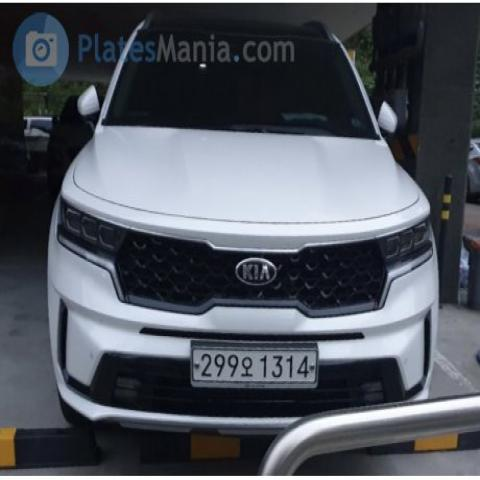LP: (182, 327, 328, 395)
